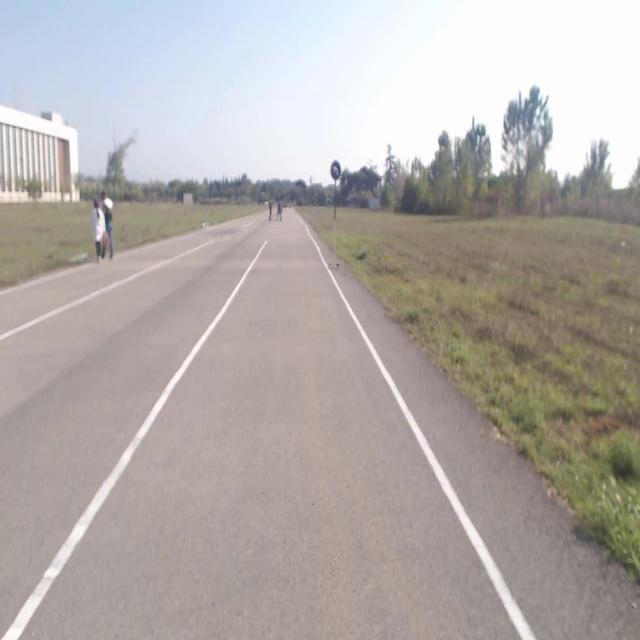sol: (330, 161, 340, 180)
